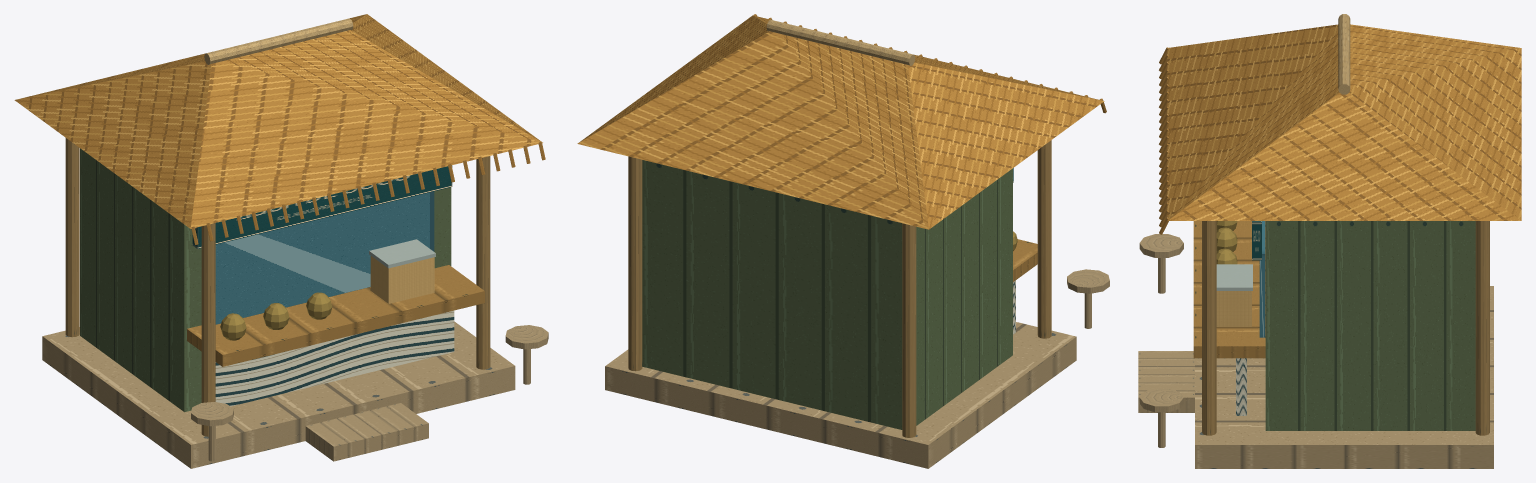
The model's file is coconut-kiosk.glb.
3 views of the same model, side by side, from view 1: azimuth 30°, elevation 25°; view 2: azimuth 150°, elevation 25°; view 3: azimuth 270°, elevation 25° (orthographic).
Visible parts, largest first — view 1: coconut-kiosk; view 2: coconut-kiosk; view 3: coconut-kiosk.
Boxes of the visible parts, x1,y1,x2,y2 form: coconut-kiosk: [14, 14, 548, 468]; coconut-kiosk: [577, 14, 1109, 468]; coconut-kiosk: [1138, 14, 1521, 468].
Bounding box in the file's own units: 3.7 × 3.39 × 3.46.
1 material, 1 textured.
